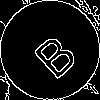B: (25, 25, 81, 81)
